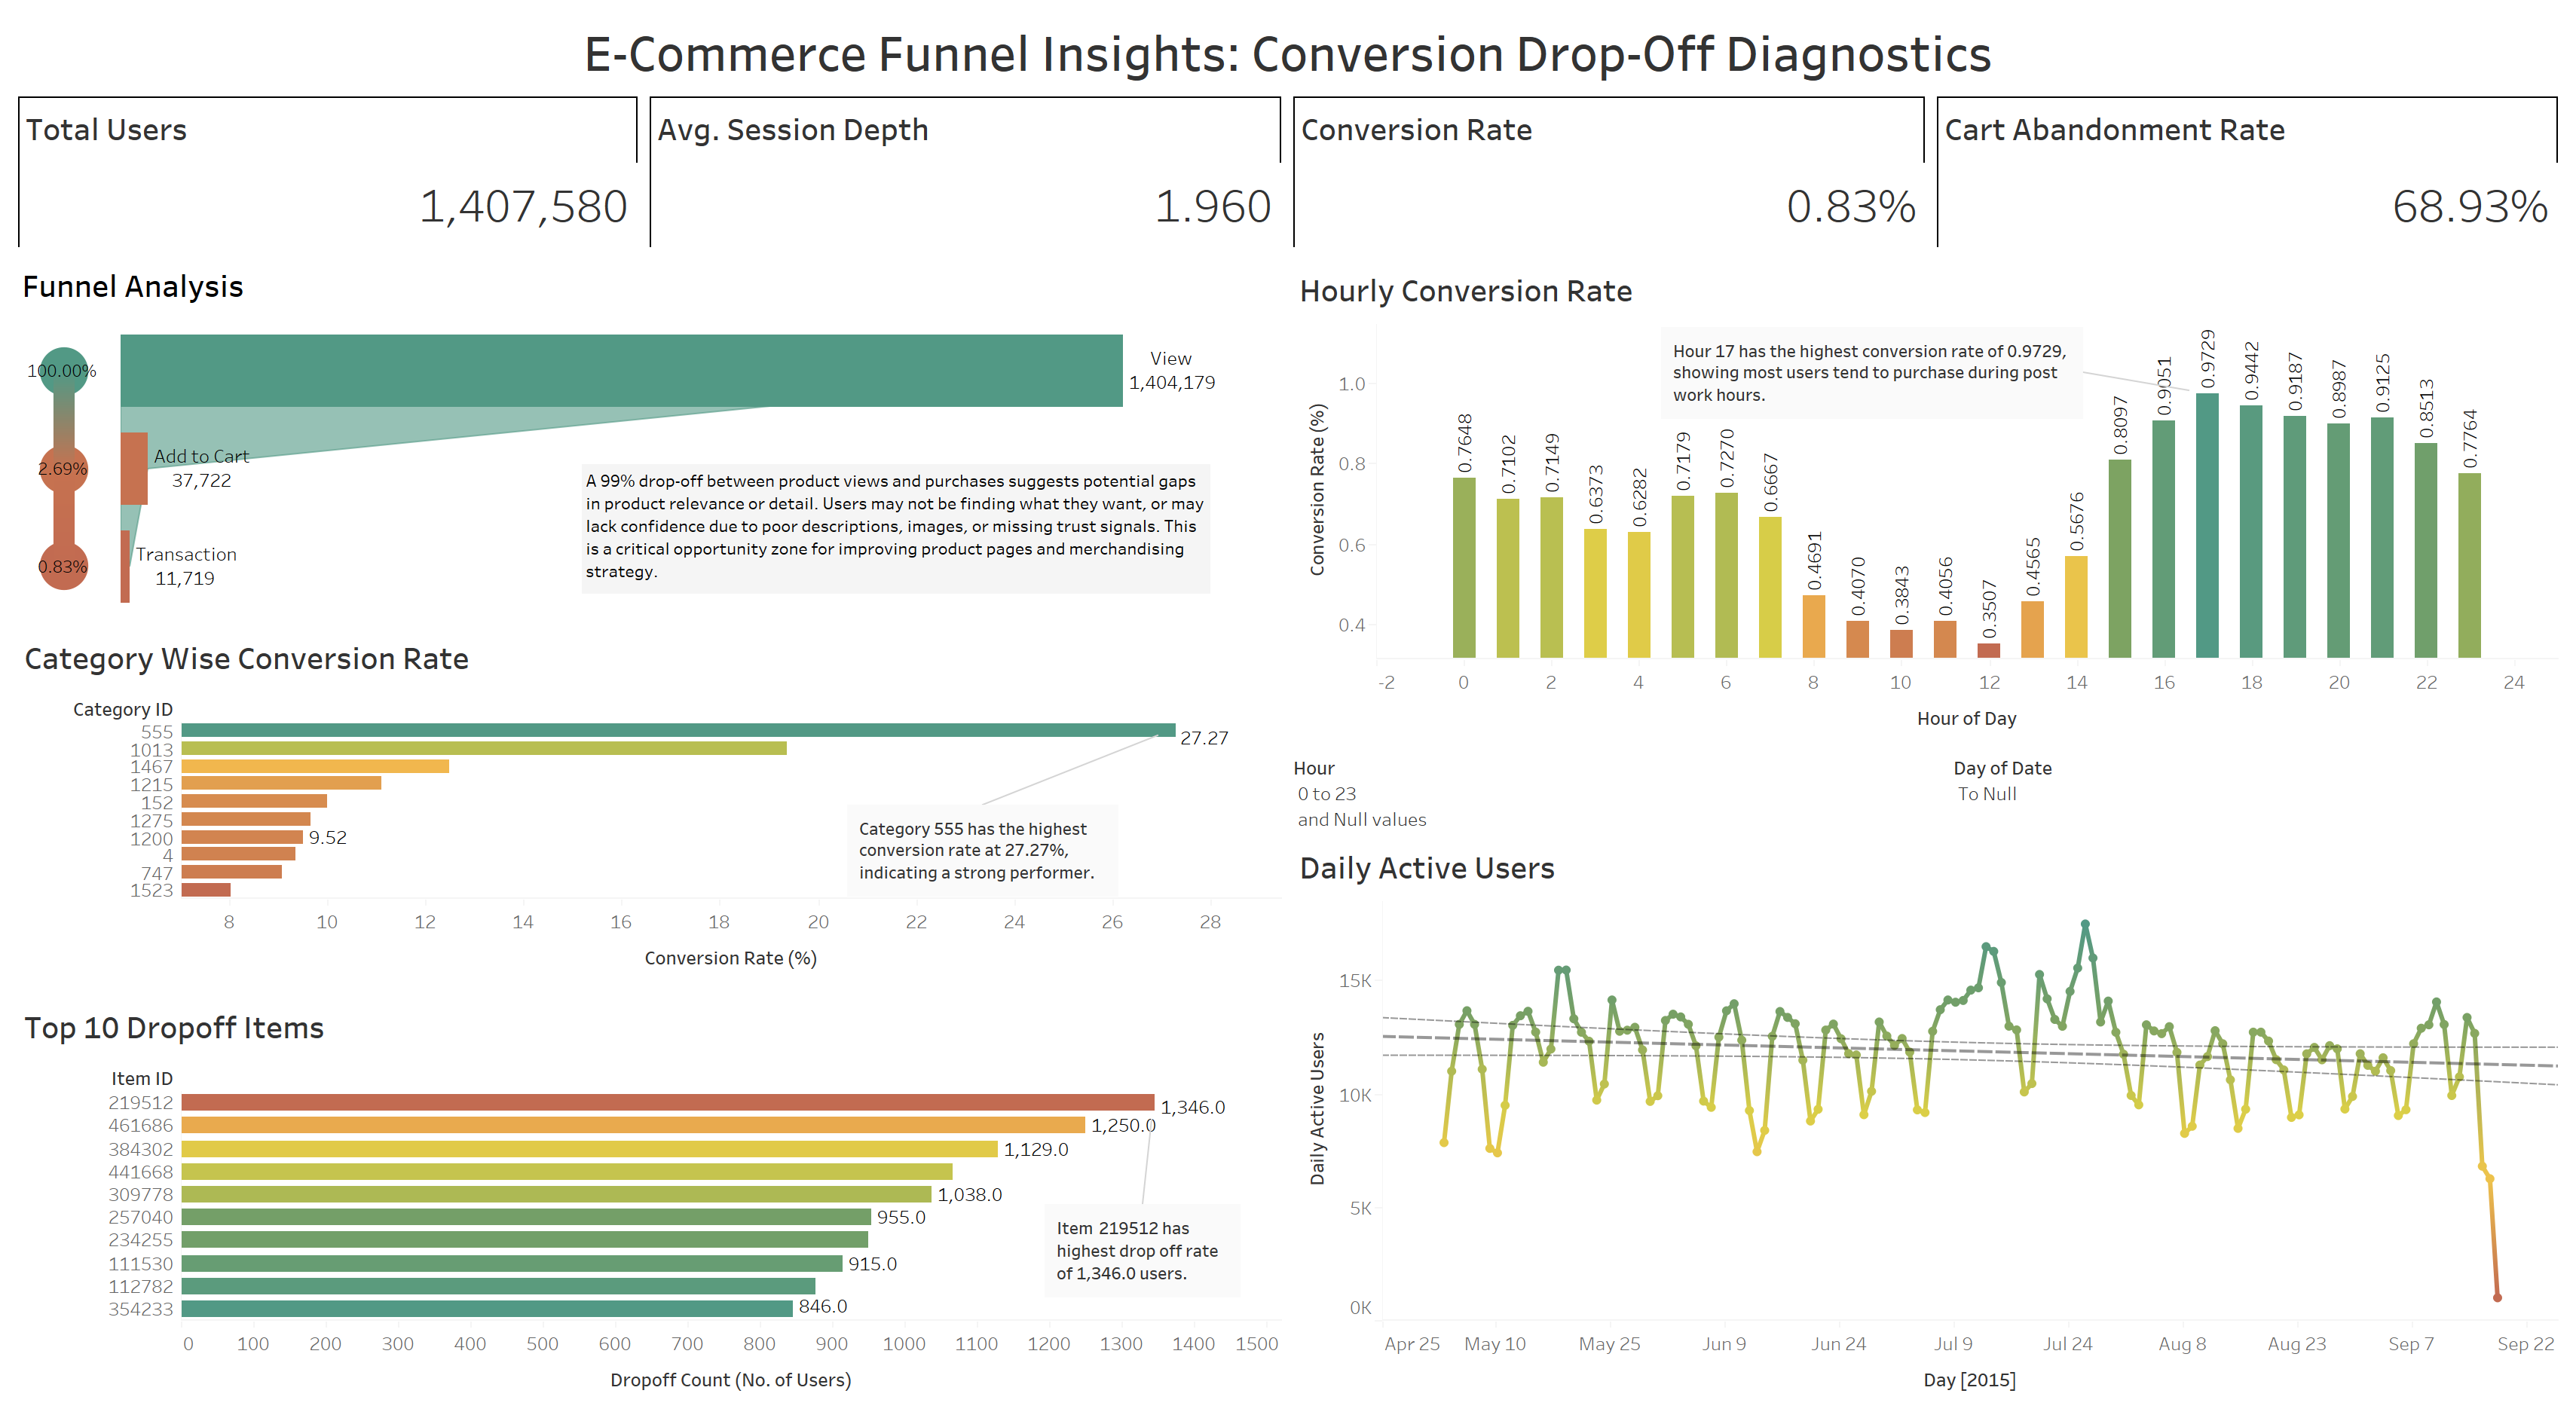

The page's visual inventory and layout, read from the dashboard file:
{"tool":"tableau","page":{"name":"E-Commerce Funnel Insights: Conversion Drop-Off Diagnostics","canvas":[1000,1000],"units":"permille","ordinal":0},"visuals":[{"type":"title","box":[5.3,8.4,989.5,54.9]},{"type":"worksheet","title":"Total Users","mark":"Automatic","box":[5.3,63.3,244.8,114.6]},{"type":"worksheet","title":"Avg. Session Depth","mark":"Automatic","box":[250.1,63.3,249.6,114.6]},{"type":"worksheet","title":"Conversion Rate","mark":"Automatic","box":[499.7,63.3,249.6,114.6]},{"type":"worksheet","title":"Cart Abandonment Rate","mark":"Automatic","box":[749.2,63.3,245.5,114.6]},{"type":"text","box":[5.3,177.8,494.4,44.5]},{"type":"worksheet","title":"Hourly Conversion Rate","mark":"Bar","rows":["visitorid"],"cols":["hour"],"box":[499.7,177.8,495.1,348.2]},{"type":"worksheet","title":"Funnel Analysis Pt.2","mark":"Circle","rows":["Stage"],"cols":["Calculation_243194417844473889","Calculation_243194417845354532"],"box":[5.3,222.4,39.7,214.8]},{"type":"worksheet","title":"Funnel Analysis","mark":"Area","rows":["Stage"],"cols":["Users","Users"],"box":[45,222.4,454.7,214.8]},{"type":"text","box":[225.9,326.6,244,91.2]},{"type":"worksheet","title":"Category Wise Conversion Rate","mark":"Bar","rows":["categoryid"],"cols":["conversion_rate"],"box":[5.3,437.2,494.4,259.4]},{"type":"filter","title":"Hourly Conversion Rate","param":"[federated.14j7vdk19l5ydi1afjavu0hgj633].[none:hour:qk]","box":[499.7,526.1,256,58.6]},{"type":"filter","title":"Daily Active Users","param":"[federated.00gko5i0dmwi3k1arxq1m06y6j4q].[tdy:date:qk]","box":[755.6,526.1,239.1,58.6]},{"type":"worksheet","title":"Daily Active Users","mark":"Line","rows":["visitorid"],"cols":["date"],"box":[499.7,584.6,495.1,406.9]},{"type":"worksheet","title":"Top 10 Dropoff Items","mark":"Automatic","rows":["itemid"],"cols":["visitorid"],"box":[5.3,696.5,494.4,295]}]}

Visuals, with their boxes on the dashboard's canvas, which has no fixed pixel size, in thousandths of its width and height (x1, y1, x2, y2). These are canvas units, not pixel positions in the 2576x1421 screenshot, which may show the page scaled, cropped or inside an application window:
title: left=5, top=8, right=995, bottom=63
"Total Users" worksheet: left=5, top=63, right=250, bottom=178
"Avg. Session Depth" worksheet: left=250, top=63, right=500, bottom=178
"Conversion Rate" worksheet: left=500, top=63, right=749, bottom=178
"Cart Abandonment Rate" worksheet: left=749, top=63, right=995, bottom=178
text: left=5, top=178, right=500, bottom=222
"Hourly Conversion Rate" worksheet (Bar marks): left=500, top=178, right=995, bottom=526
"Funnel Analysis Pt.2" worksheet (Circle marks): left=5, top=222, right=45, bottom=437
"Funnel Analysis" worksheet (Area marks): left=45, top=222, right=500, bottom=437
text: left=226, top=327, right=470, bottom=418
"Category Wise Conversion Rate" worksheet (Bar marks): left=5, top=437, right=500, bottom=697
"Hourly Conversion Rate" filter: left=500, top=526, right=756, bottom=585
"Daily Active Users" filter: left=756, top=526, right=995, bottom=585
"Daily Active Users" worksheet (Line marks): left=500, top=585, right=995, bottom=992
"Top 10 Dropoff Items" worksheet: left=5, top=696, right=500, bottom=992
